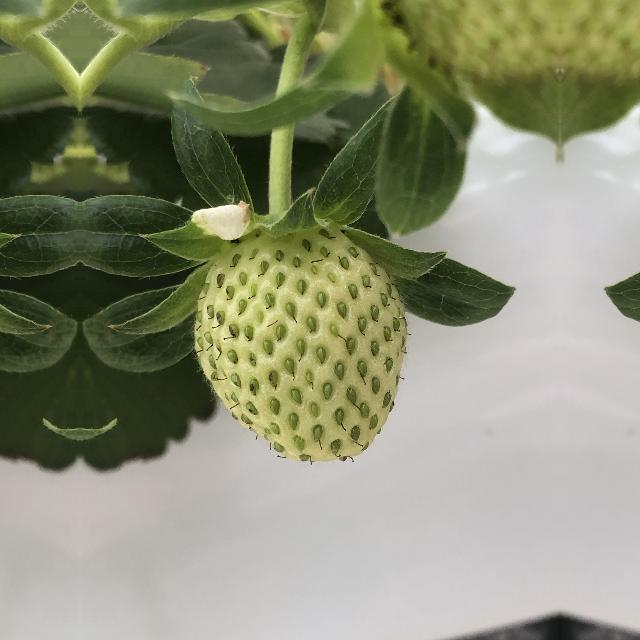Health_25: (190, 221, 416, 474)
